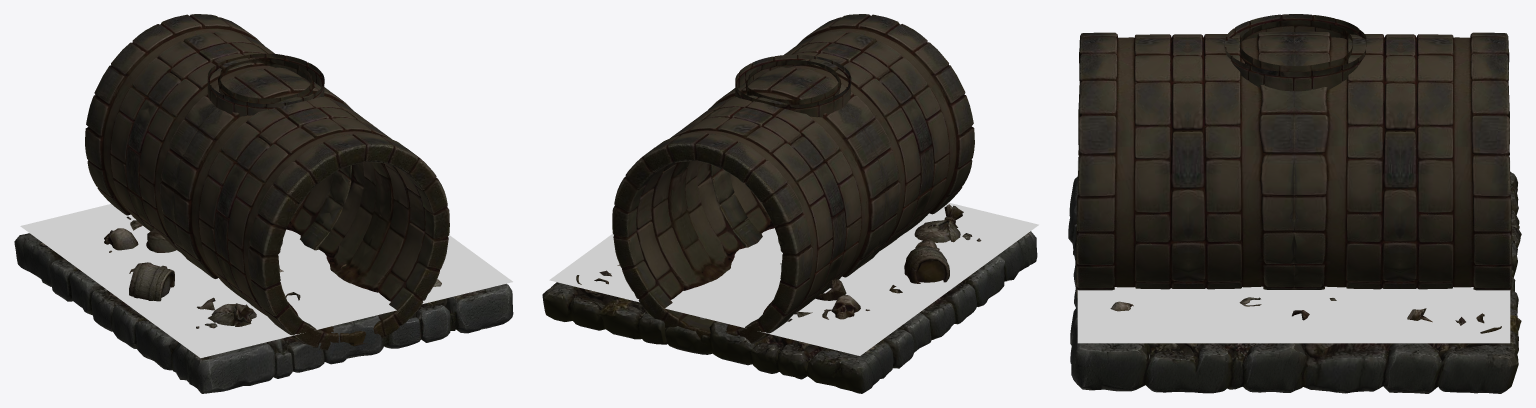
The model's file is Crawlspace_Pipe_Straight_02.fbx.
The picture shows the model from 3 angles, left to right: view 1: azimuth 30°, elevation 25°; view 2: azimuth 150°, elevation 25°; view 3: azimuth 270°, elevation 25°; orthographic projection. The views are drawn at different scales.
Parts seen in each view (by area): view 1: CrawlSpace_Pipe_Straight_02; view 2: CrawlSpace_Pipe_Straight_02; view 3: CrawlSpace_Pipe_Straight_02.
Part boxes in pixels (box(x1,y1,x2,y2)): CrawlSpace_Pipe_Straight_02: box(14, 14, 513, 393); CrawlSpace_Pipe_Straight_02: box(542, 14, 1038, 393); CrawlSpace_Pipe_Straight_02: box(1068, 14, 1521, 393).
Bounding box in the file's own units: 312 × 197 × 314.
Materials: 5 (3 with a texture image).
